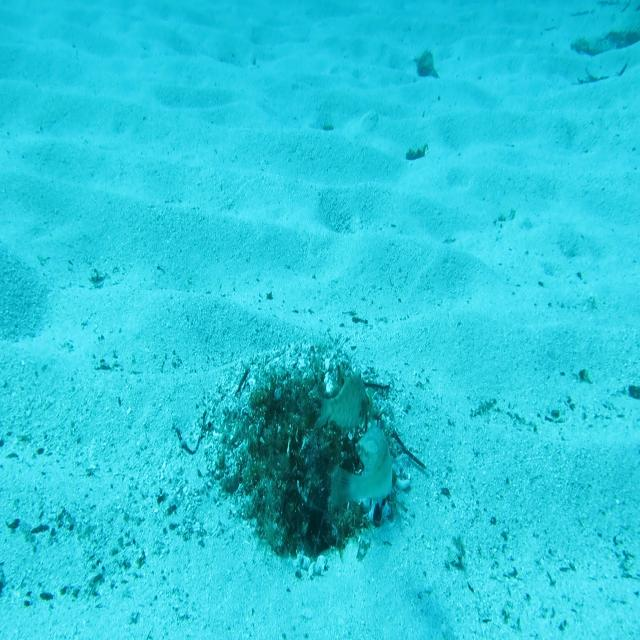MAN: (316, 366, 372, 440)
core_nest: (276, 392, 326, 438)
female: (327, 422, 397, 517)
nest: (200, 326, 413, 580)
vegetation: (571, 28, 640, 60), (411, 48, 443, 81), (405, 140, 429, 164)
